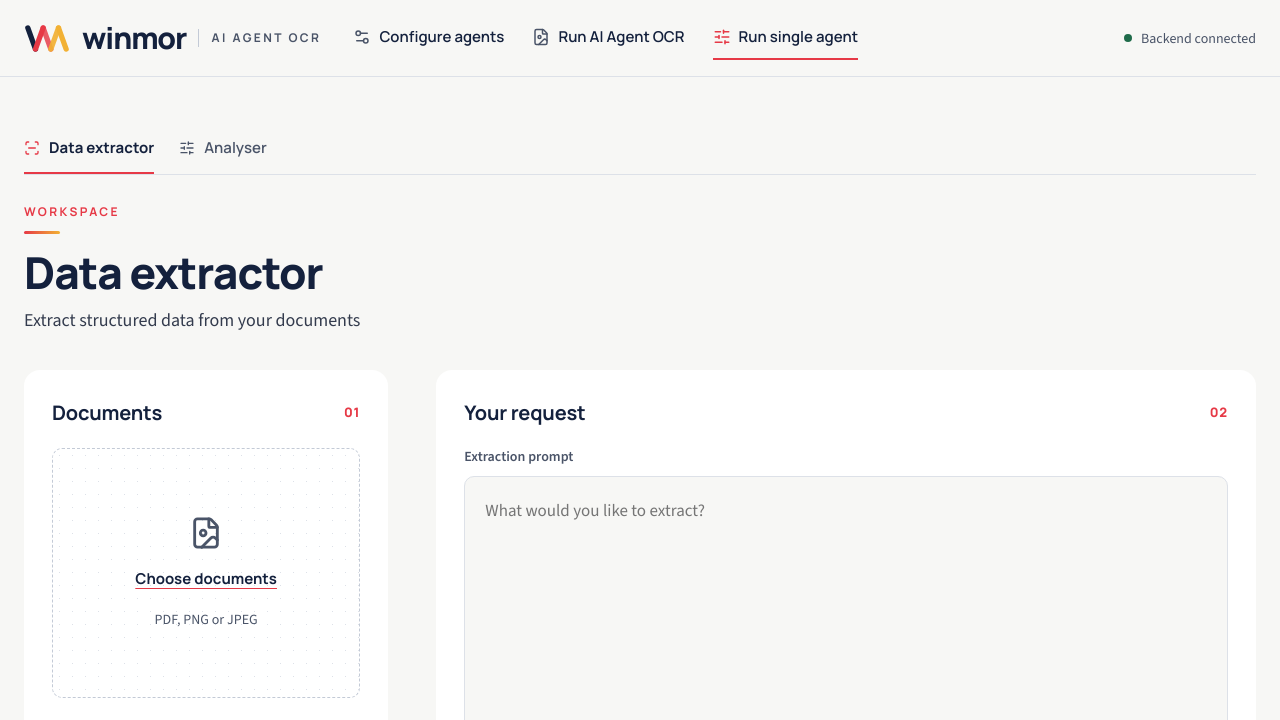
Test: stops model feedback on failure and does not reveal or scroll to results
Expected: the text "Backend connected" is shown, [1124,28,1256,48]
Press the mouse on the tab "Analyser" at x=223, y=149, box [179,125,267,174]
(page scrolled)
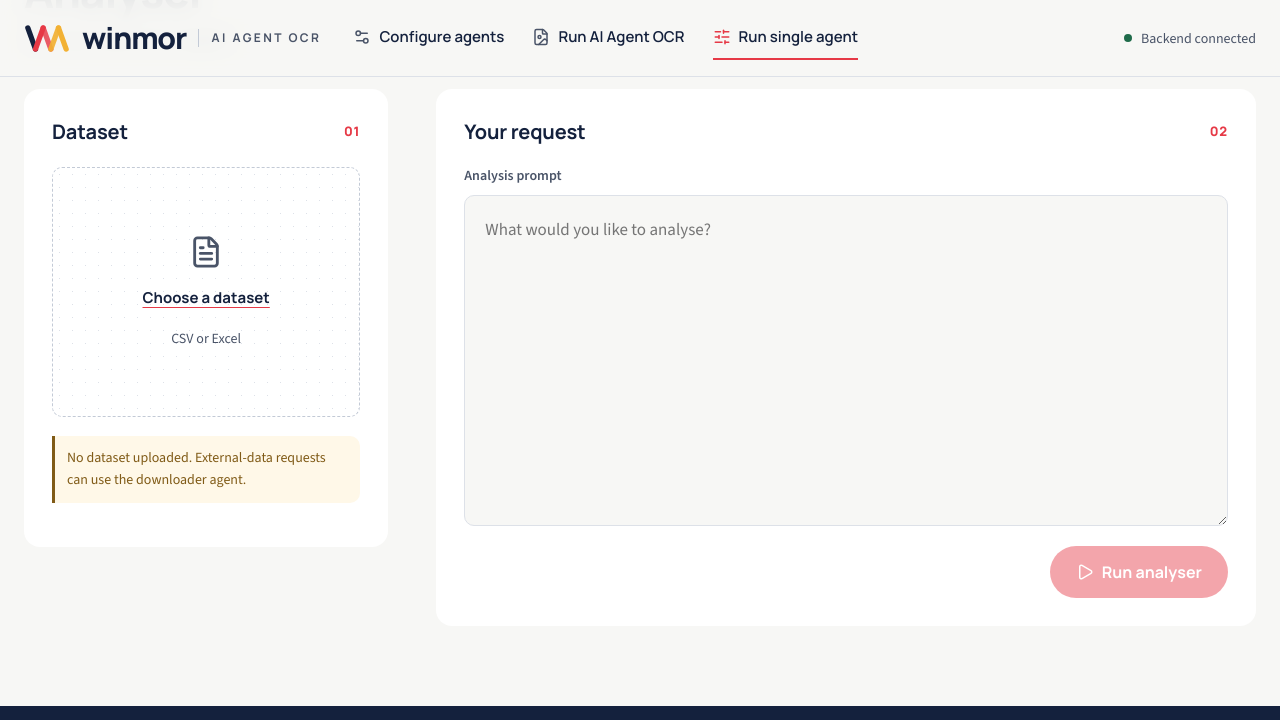
Type "Analyse" into the text box labelled "Analysis prompt".
click(846, 360); type("Analyse")  # box [464,195,1228,526]
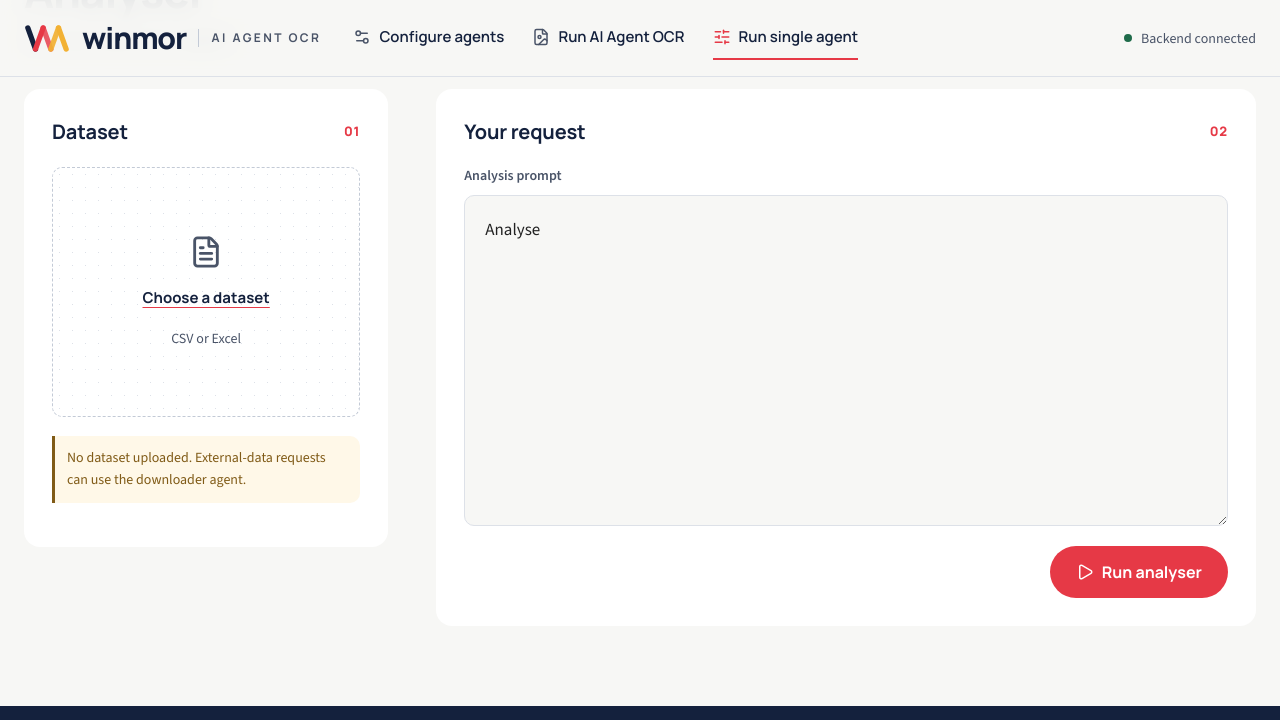
Expected: the button "Run analyser" is enabled
Click the button "Run analyser".
click(1139, 572)  # box [1050,546,1228,598]
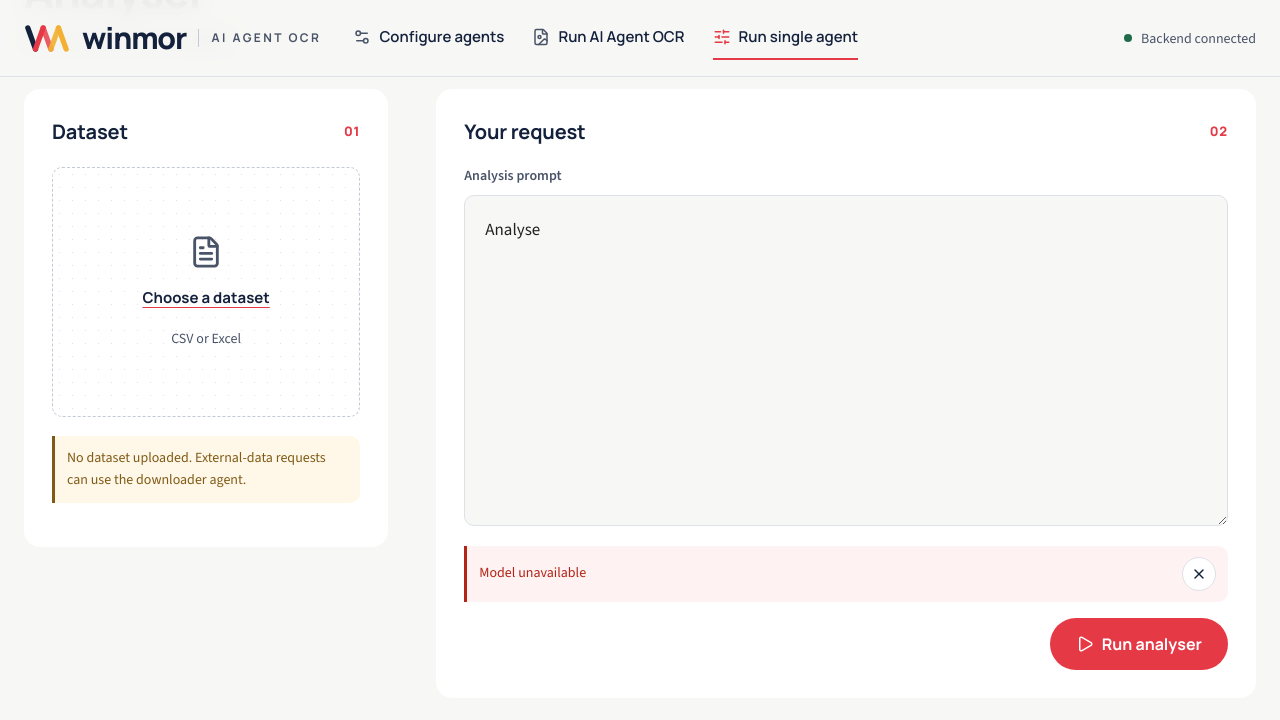
Expected: the button "Run analyser" is enabled, [1050,618,1228,670]
Expected: the text "Model unavailable" is shown, [479,564,586,582]
